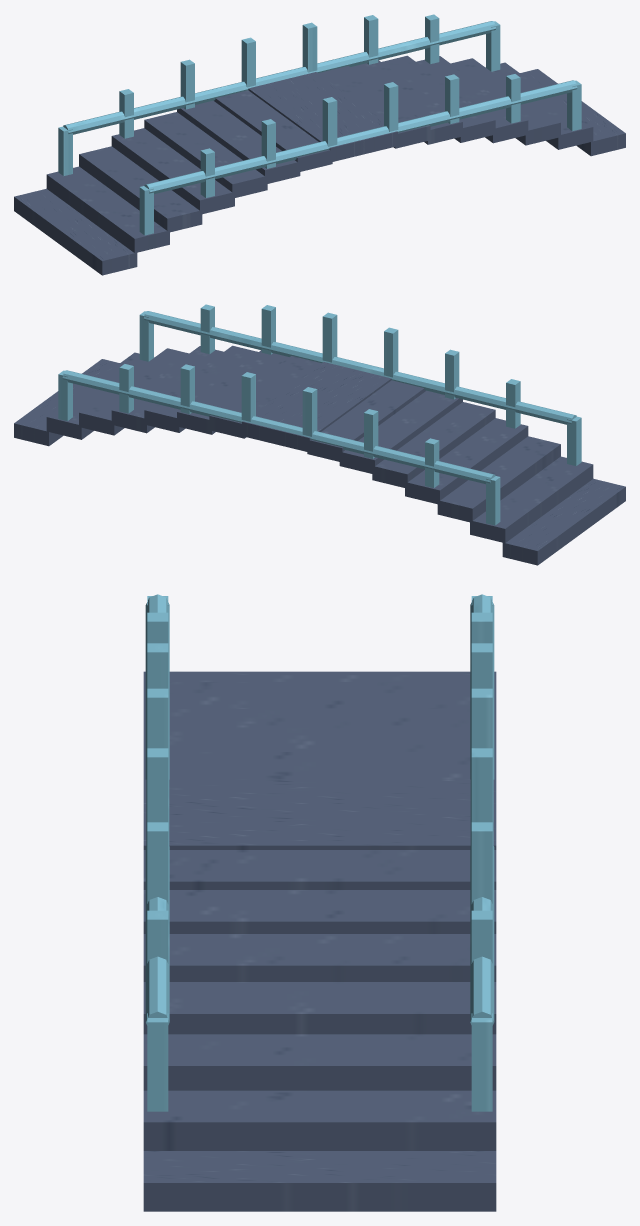
The model's file is glacier_bridge_lod0.glb.
3 renders of one model, top to bottom at view 1: azimuth 30°, elevation 25°; view 2: azimuth 150°, elevation 25°; view 3: azimuth 270°, elevation 25°, orthographic. The views are drawn at different scales.
Parts seen in each view (by area): view 1: stone_0, ice_24, ice_33, stone_1, stone_2, stone_3, stone_4, stone_5, stone_7, stone_6, stone_8, stone_9 (+22 smaller); view 2: stone_0, ice_33, ice_24, stone_1, stone_2, stone_3, stone_4, stone_5, stone_7, stone_6, stone_8, stone_9 (+22 smaller); view 3: stone_15, stone_14, stone_13, stone_12, stone_11, stone_10, stone_9, stone_8, stone_7, stone_6, stone_5, stone_4 (+18 smaller).
Boxes of the visible parts, x1=… form: stone_0: x1=14, y1=188, x2=137, y2=275; ice_24: x1=144, y1=80, x2=577, y2=194; ice_33: x1=63, y1=21, x2=496, y2=134; stone_1: x1=46, y1=166, x2=169, y2=252; stone_2: x1=79, y1=146, x2=202, y2=232; stone_3: x1=111, y1=128, x2=234, y2=214; stone_4: x1=144, y1=112, x2=267, y2=197; stone_5: x1=177, y1=100, x2=300, y2=184; stone_7: x1=248, y1=80, x2=365, y2=162; stone_6: x1=214, y1=90, x2=332, y2=172; stone_8: x1=284, y1=72, x2=397, y2=153; stone_9: x1=318, y1=66, x2=430, y2=148; stone_0: x1=502, y1=478, x2=625, y2=565; ice_33: x1=62, y1=370, x2=495, y2=484; ice_24: x1=143, y1=311, x2=576, y2=424; stone_1: x1=470, y1=456, x2=593, y2=542; stone_2: x1=437, y1=436, x2=560, y2=522; stone_3: x1=405, y1=418, x2=528, y2=504; stone_4: x1=372, y1=402, x2=495, y2=488; stone_5: x1=339, y1=390, x2=462, y2=473; stone_7: x1=274, y1=370, x2=391, y2=452; stone_6: x1=307, y1=380, x2=425, y2=462; stone_8: x1=242, y1=362, x2=355, y2=443; stone_9: x1=209, y1=356, x2=321, y2=438; stone_15: x1=143, y1=1151, x2=496, y2=1211; stone_14: x1=143, y1=1090, x2=496, y2=1150; stone_13: x1=143, y1=1034, x2=496, y2=1090; stone_12: x1=143, y1=982, x2=496, y2=1034; stone_11: x1=143, y1=934, x2=496, y2=981; stone_10: x1=143, y1=890, x2=496, y2=933; stone_9: x1=143, y1=850, x2=496, y2=889; stone_8: x1=143, y1=814, x2=496, y2=849; stone_7: x1=143, y1=779, x2=496, y2=813; stone_6: x1=143, y1=752, x2=496, y2=779; stone_5: x1=143, y1=728, x2=496, y2=751; stone_4: x1=143, y1=709, x2=496, y2=728.
Size of the model in its own units: 17.15 by 3.65 by 5.
2 materials, 2 textured.
